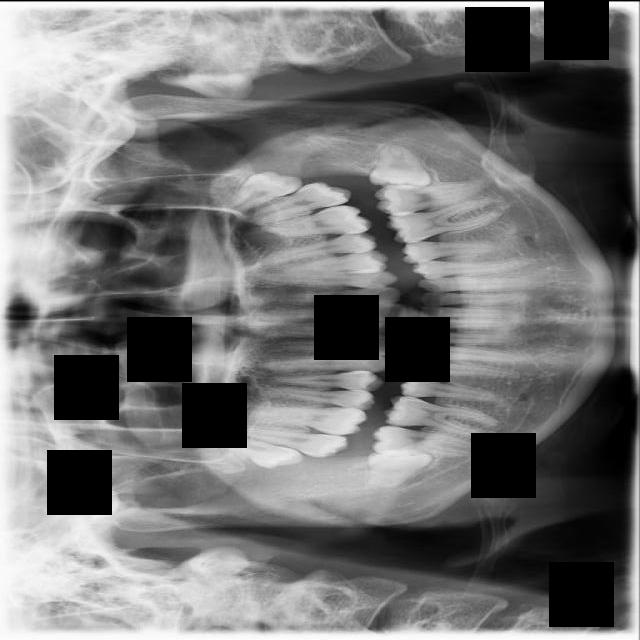3M ESPE Implant: (211, 429, 306, 475)
73: (605, 16, 614, 24)
BioHorizons Implant: (228, 173, 354, 229)
BioLife Implant: (207, 157, 305, 223)
Biomet 3i Implant: (368, 141, 436, 194)
Blue Sky Bio Implant: (373, 178, 492, 216)
Caries: (223, 424, 350, 459)
Implant: (370, 423, 483, 461)
Keystone Dental Implant: (367, 448, 432, 487)
